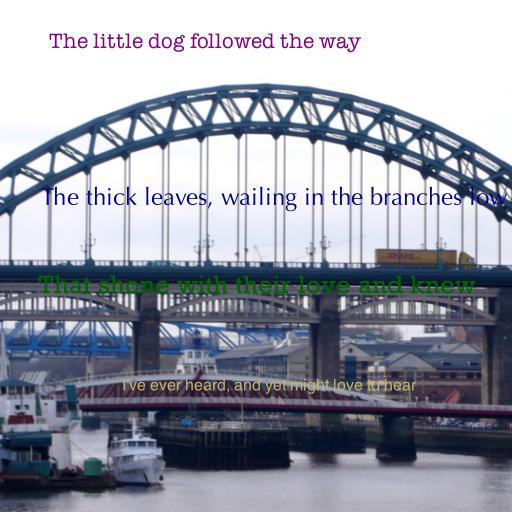American Typewriter: (49, 33, 361, 53)
Big Caslon: (122, 378, 416, 394)
Optima: (40, 186, 508, 212)
Rockwell: (38, 275, 476, 294)
